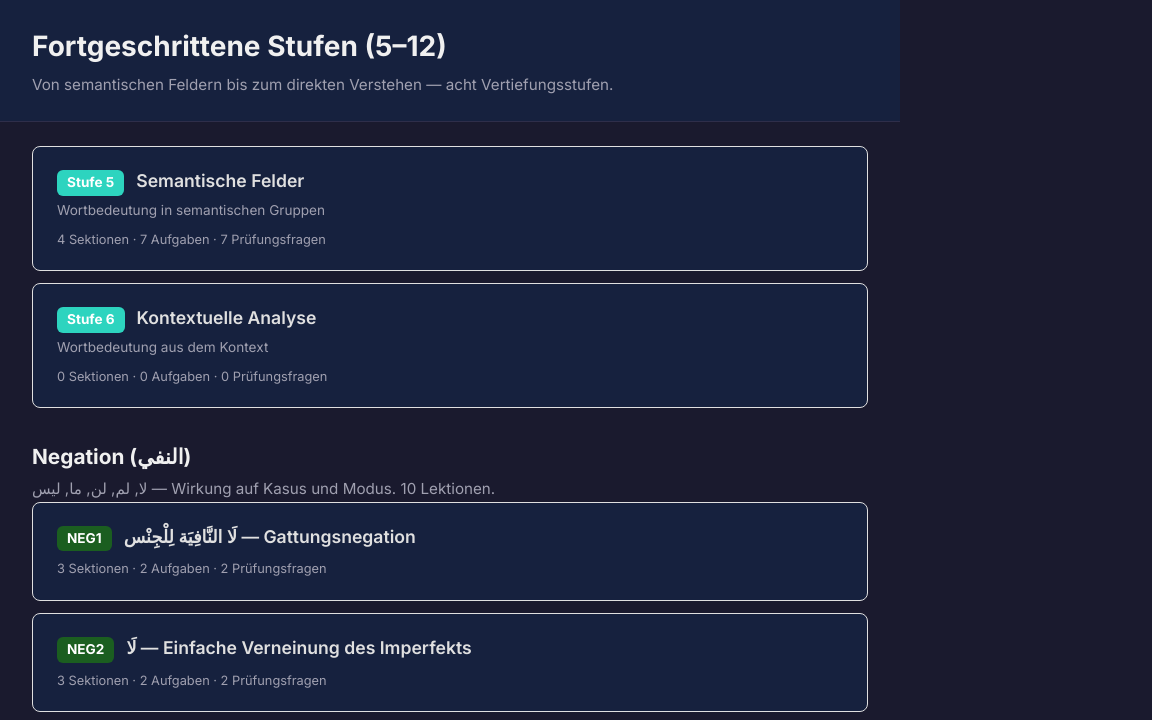
Test: Module7 — Fortgeschrittene Stufen › clicking a stage opens the detail view
Click the text "Semantische Felder". click: click(220, 181)
box: [136, 170, 304, 191]
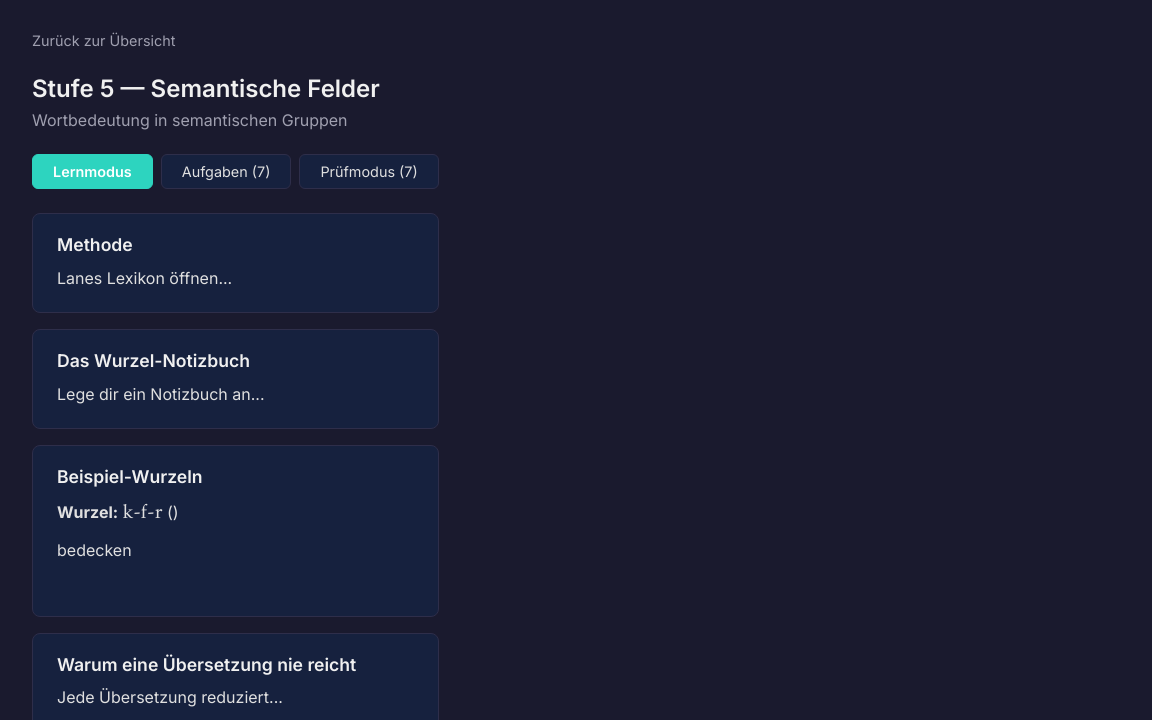
Result: the heading "Stufe 5 — Semantische Felder" is shown at [32, 73, 439, 104]
Result: the button "Lernmodus" is shown at [32, 154, 153, 189]
